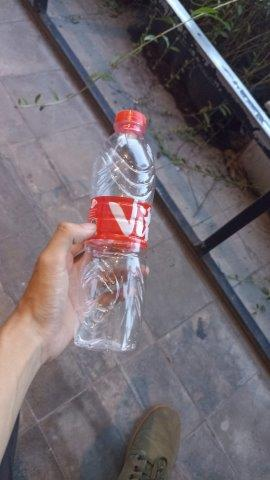botolplastik: (71, 110, 153, 359)
